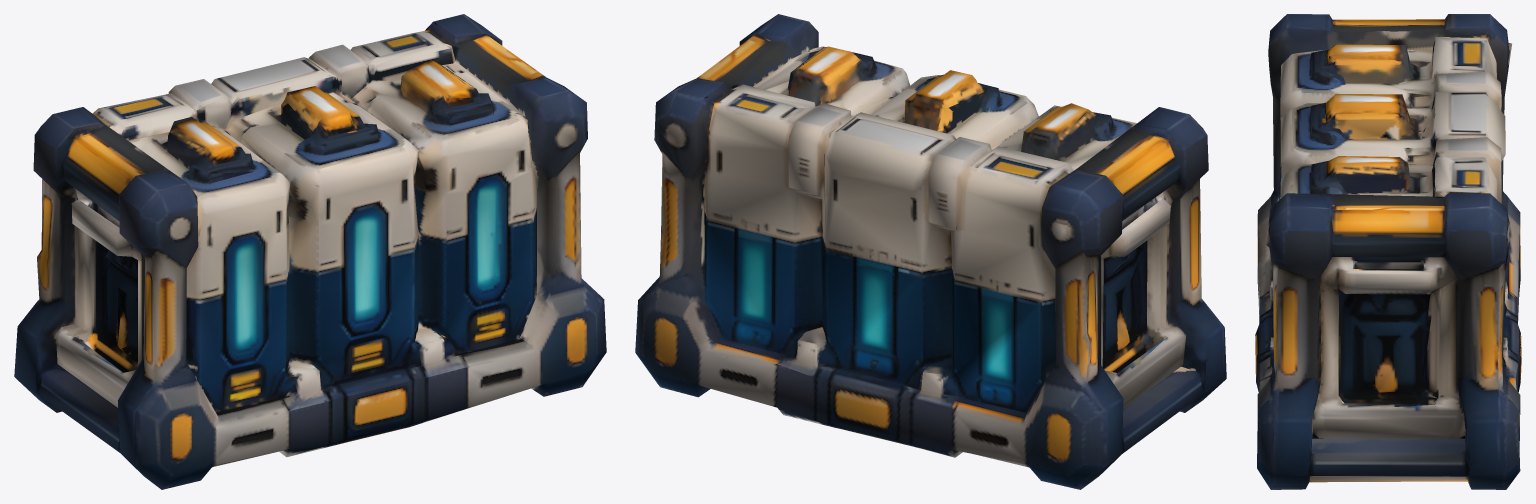
File: industrial-battery-rack_LOD1.glb
3 views of the same model, side by side, from view 1: azimuth 30°, elevation 25°; view 2: azimuth 150°, elevation 25°; view 3: azimuth 270°, elevation 25° (orthographic). The views are drawn at different scales.
Parts seen in each view (by area): view 1: industrial-battery-rack_LOD1; view 2: industrial-battery-rack_LOD1; view 3: industrial-battery-rack_LOD1.
Part boxes in pixels (bbox=[...]): industrial-battery-rack_LOD1: bbox=[14, 14, 606, 489]; industrial-battery-rack_LOD1: bbox=[635, 14, 1226, 489]; industrial-battery-rack_LOD1: bbox=[1255, 14, 1521, 489].
Bounding box in the file's own units: 2.44 × 1.5 × 1.24.
1 material, 1 textured.
